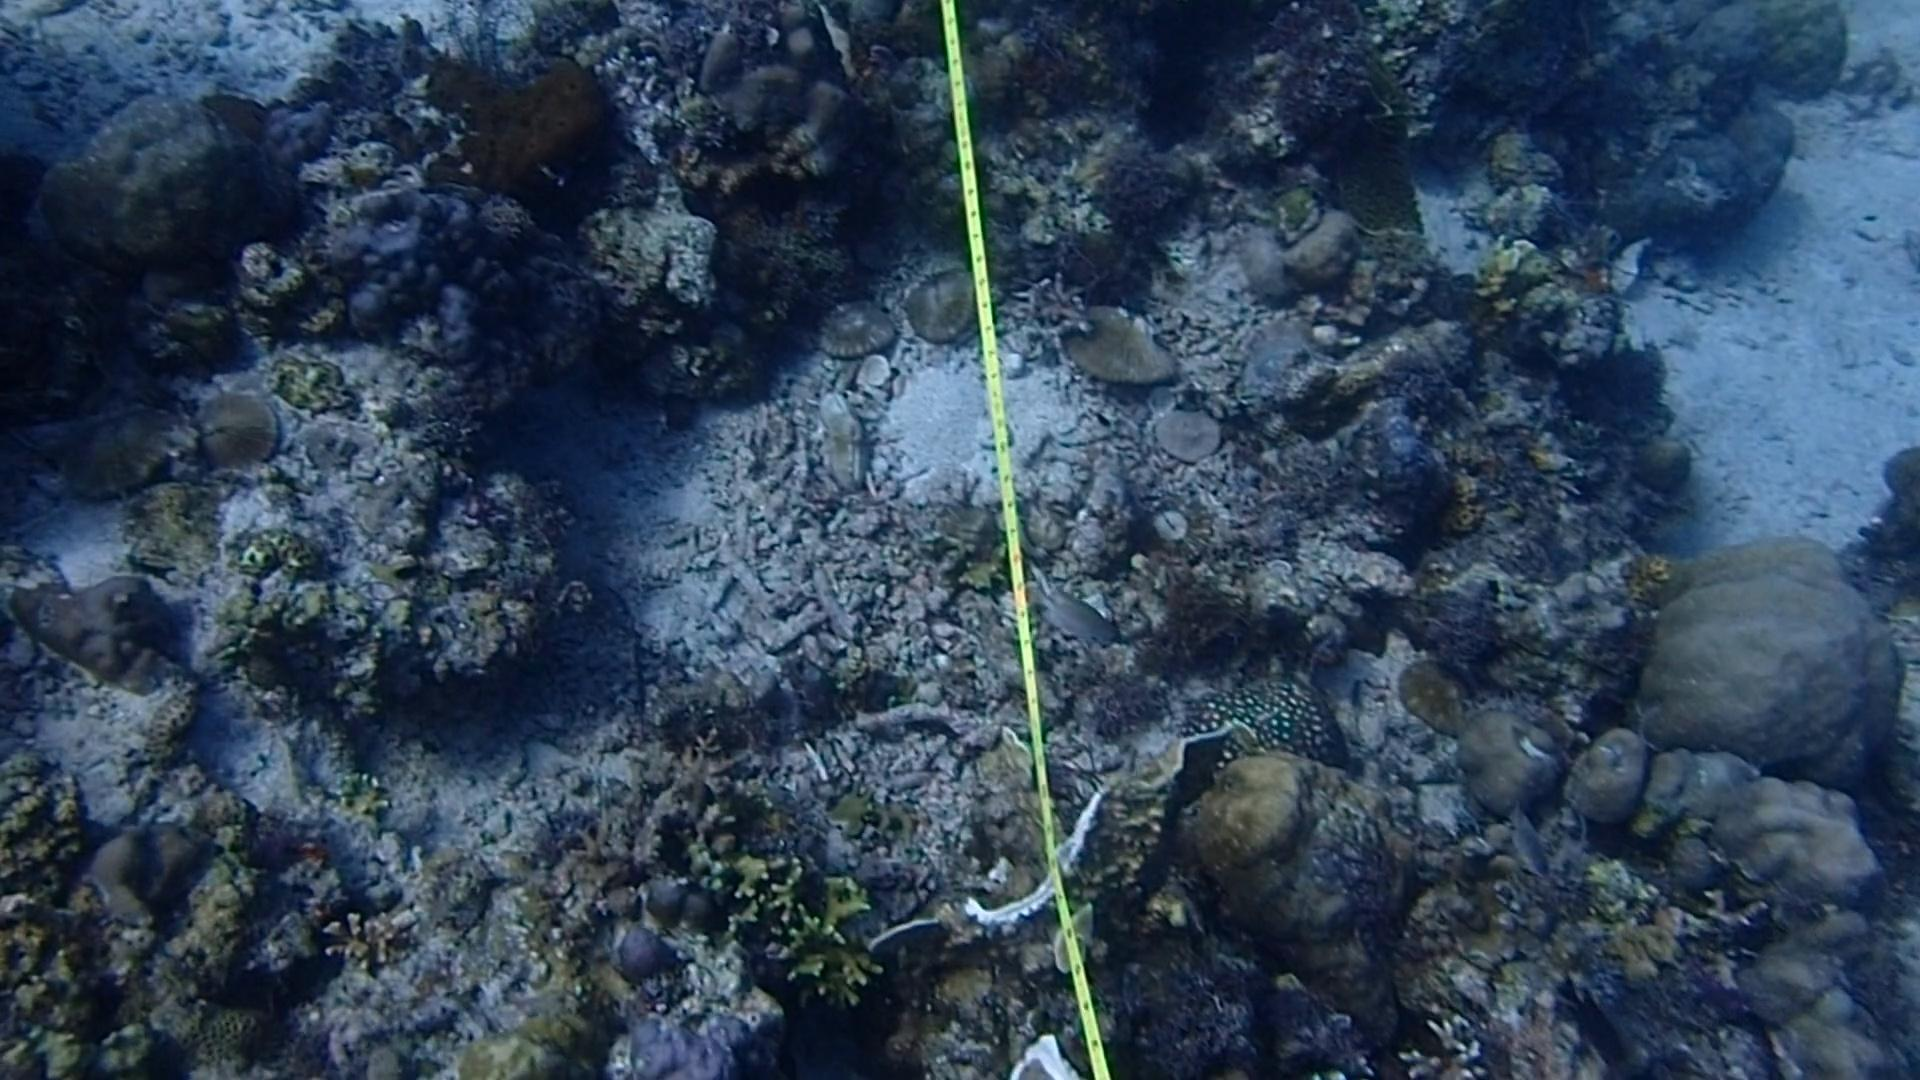Light Fish: (1021, 563, 1129, 661)
